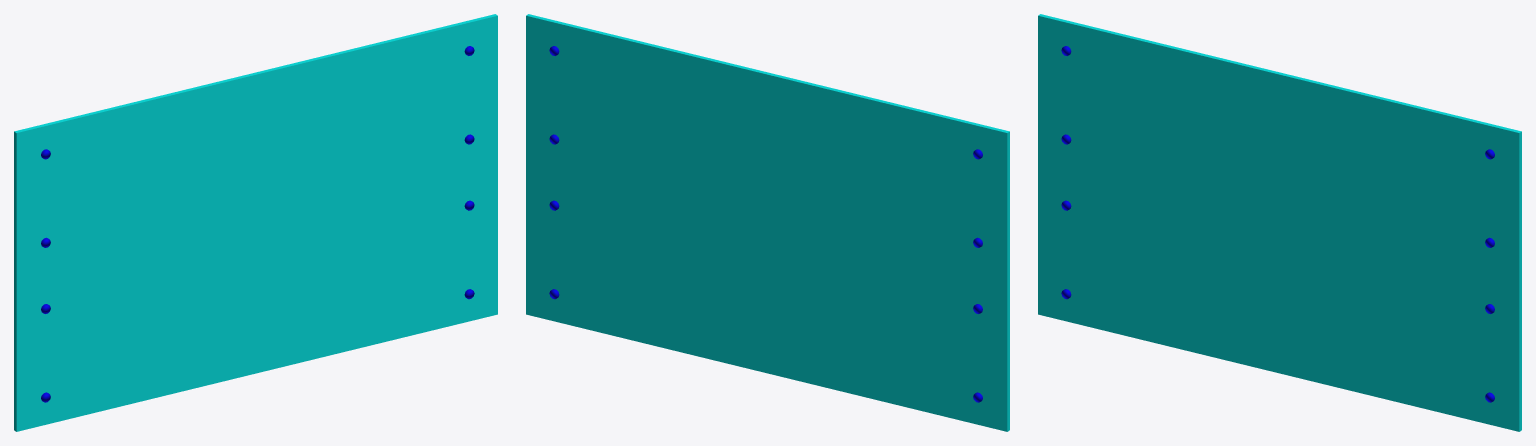
Rendered from cuadro_05_low.fbx.
3 views of the same model, side by side, from view 1: azimuth 30°, elevation 25°; view 2: azimuth 150°, elevation 25°; view 3: azimuth 330°, elevation 25° (orthographic).
Parts seen in each view (by area): view 1: cuadro_superior, cuadro_inferior; view 2: cuadro_superior, cuadro_inferior; view 3: cuadro_superior, cuadro_inferior.
Boxes of the visible parts, x1,y1,x2,y2 form: cuadro_superior: (14, 14, 497, 282); cuadro_inferior: (14, 165, 497, 431); cuadro_superior: (526, 14, 1009, 282); cuadro_inferior: (526, 165, 1009, 431); cuadro_superior: (1038, 14, 1521, 282); cuadro_inferior: (1038, 165, 1521, 431).
Bounding box in the file's own units: 118 × 70 × 2.
